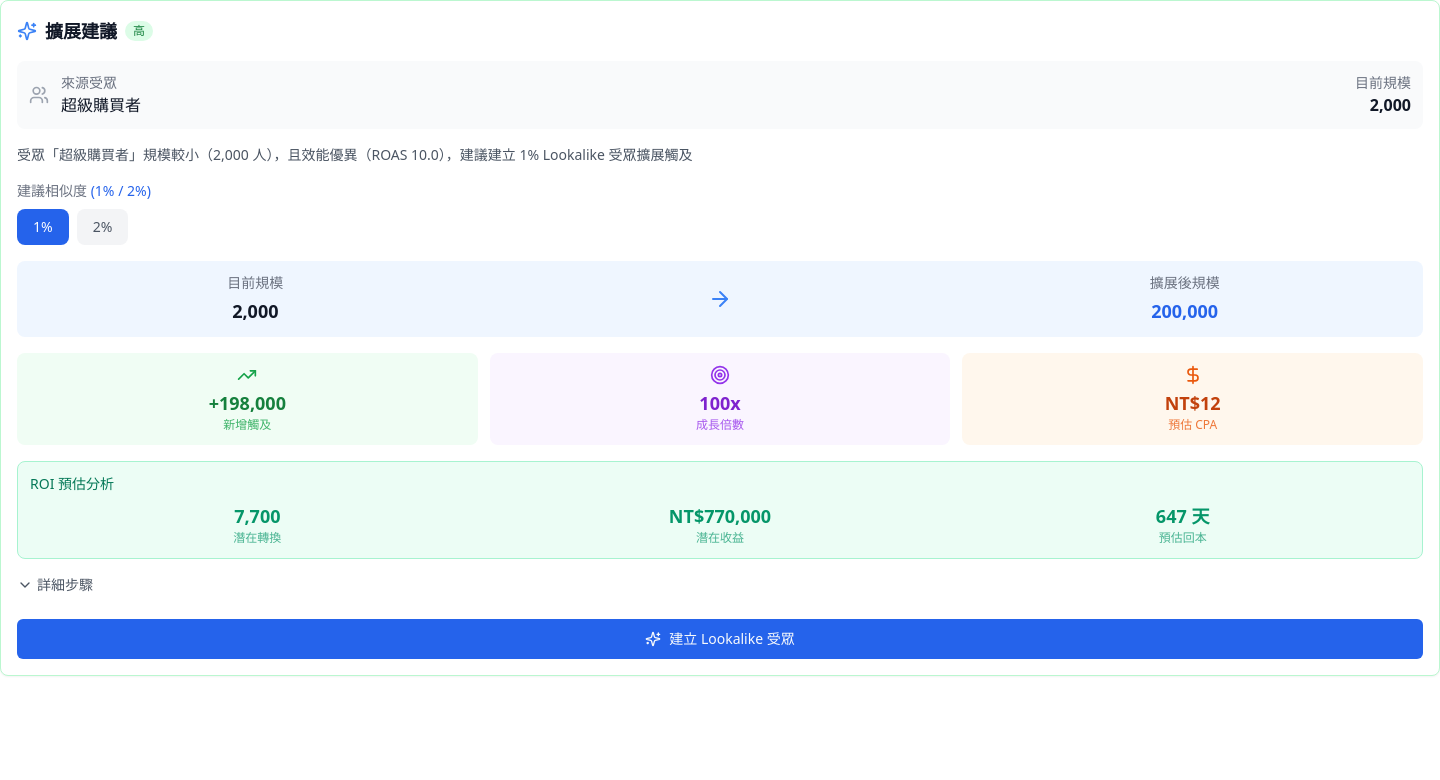
Test case: ExpansionSuggestion › collapsible details › should toggle action steps visibility on click
Click the button "詳細步驟".
click(55, 585)  # box [17,575,93,595]
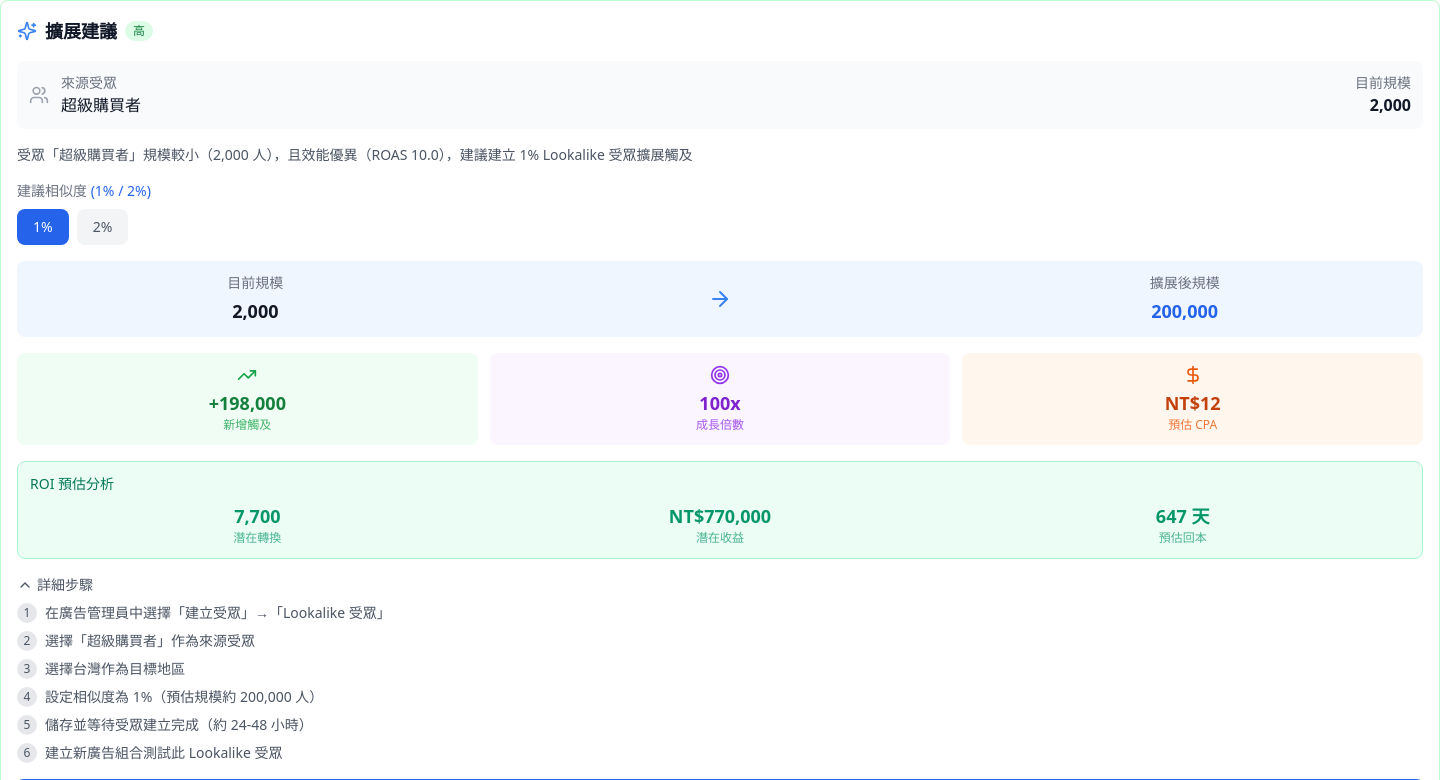
Check: the element with test id "action-steps" is shown, box [17,603,391,763]
